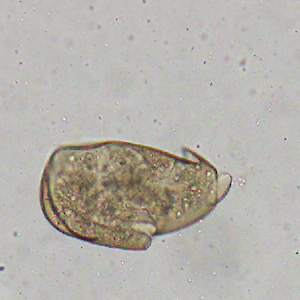Fasciola_hepatica_egg: (37, 139, 233, 251)
